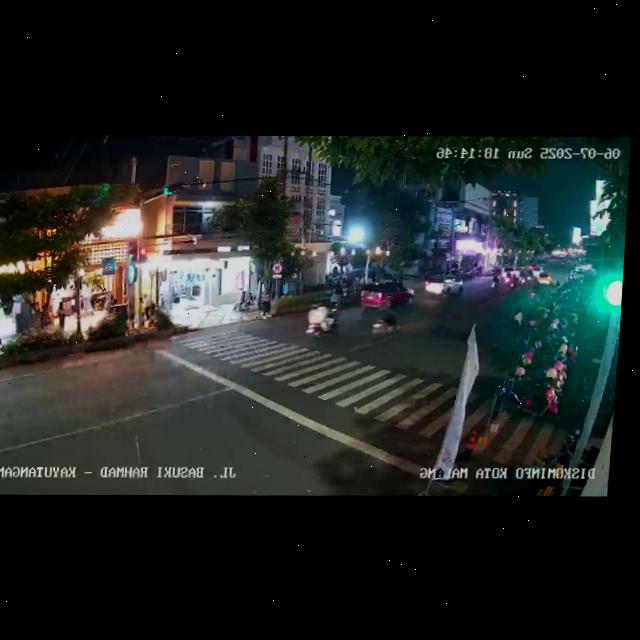car: (357, 279, 417, 312), (421, 273, 465, 302)
motorcycle: (304, 299, 341, 340), (367, 299, 402, 342)
person: (508, 305, 525, 345), (55, 297, 69, 333), (139, 293, 154, 321), (258, 294, 271, 318), (0, 314, 3, 346)
